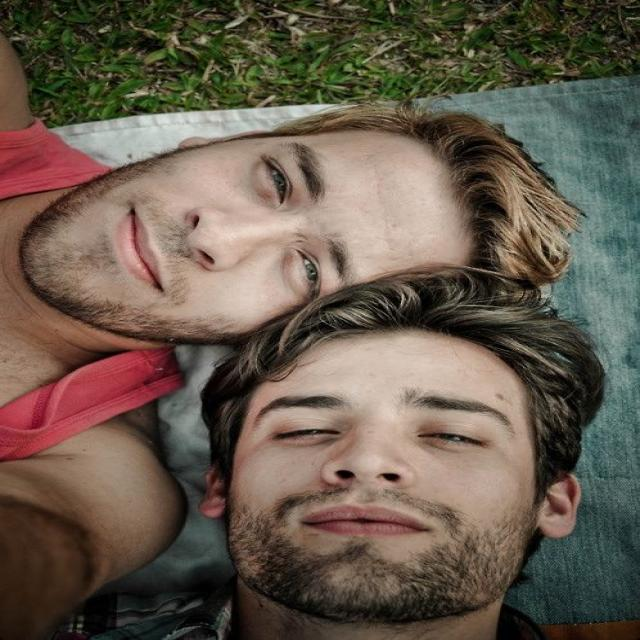earlobe: (541, 516, 573, 540), (198, 496, 228, 520)
eye: (287, 247, 321, 301), (256, 156, 290, 206), (414, 428, 492, 449), (273, 423, 339, 443)
nose: (155, 215, 216, 270), (323, 468, 412, 503)
wholeear: (540, 472, 582, 540), (199, 458, 231, 520)
